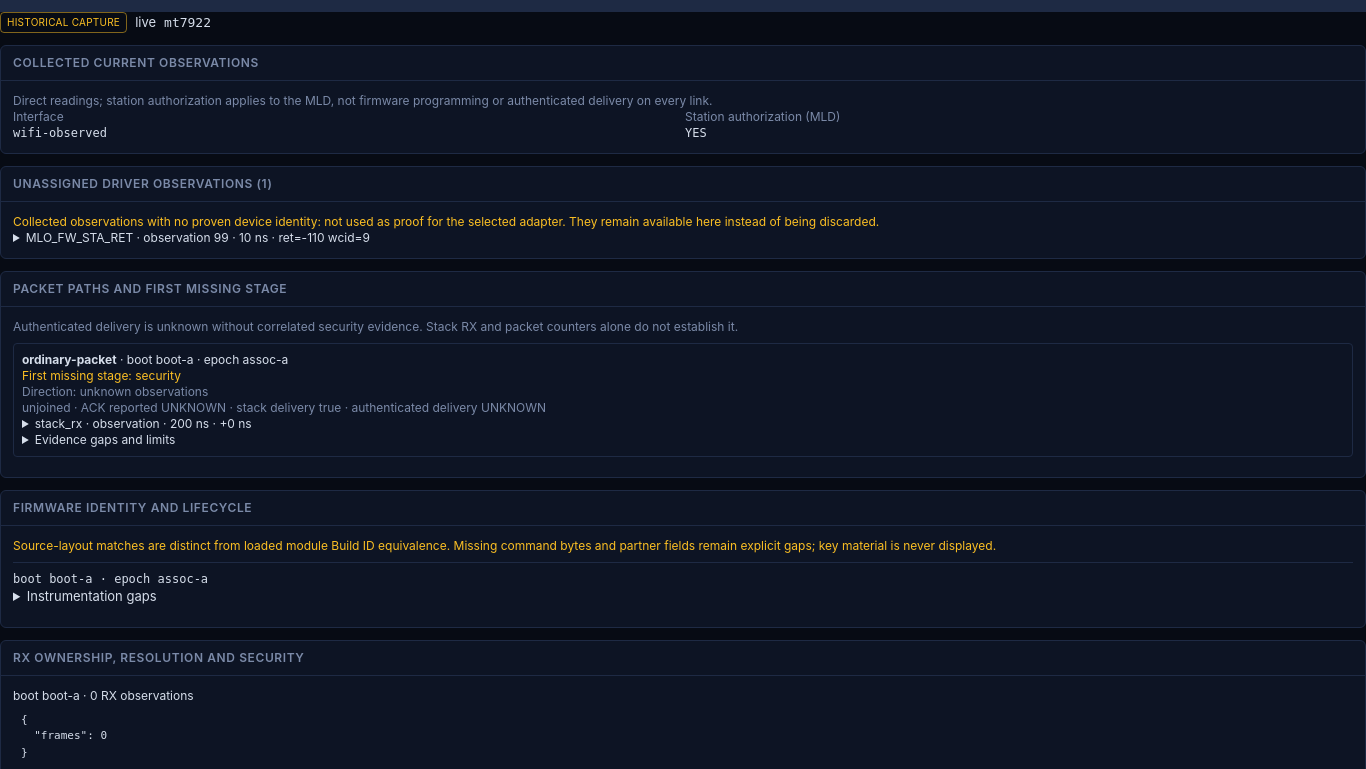
evidence exposes collected facts and unassigned driver returns without claiming ownership
The image size is (1366, 769).
Expected: the text "wifi-observed" is shown, [13,126,107,140]
Expected: the text "Station authorization (MLD)" is shown, [685,109,840,124]
Click the heading "MLO_FW_STA_RET · observation 99 · 10 ns · ret=-110 wcid=9". click: x=198, y=238
box: [26,230,370,245]
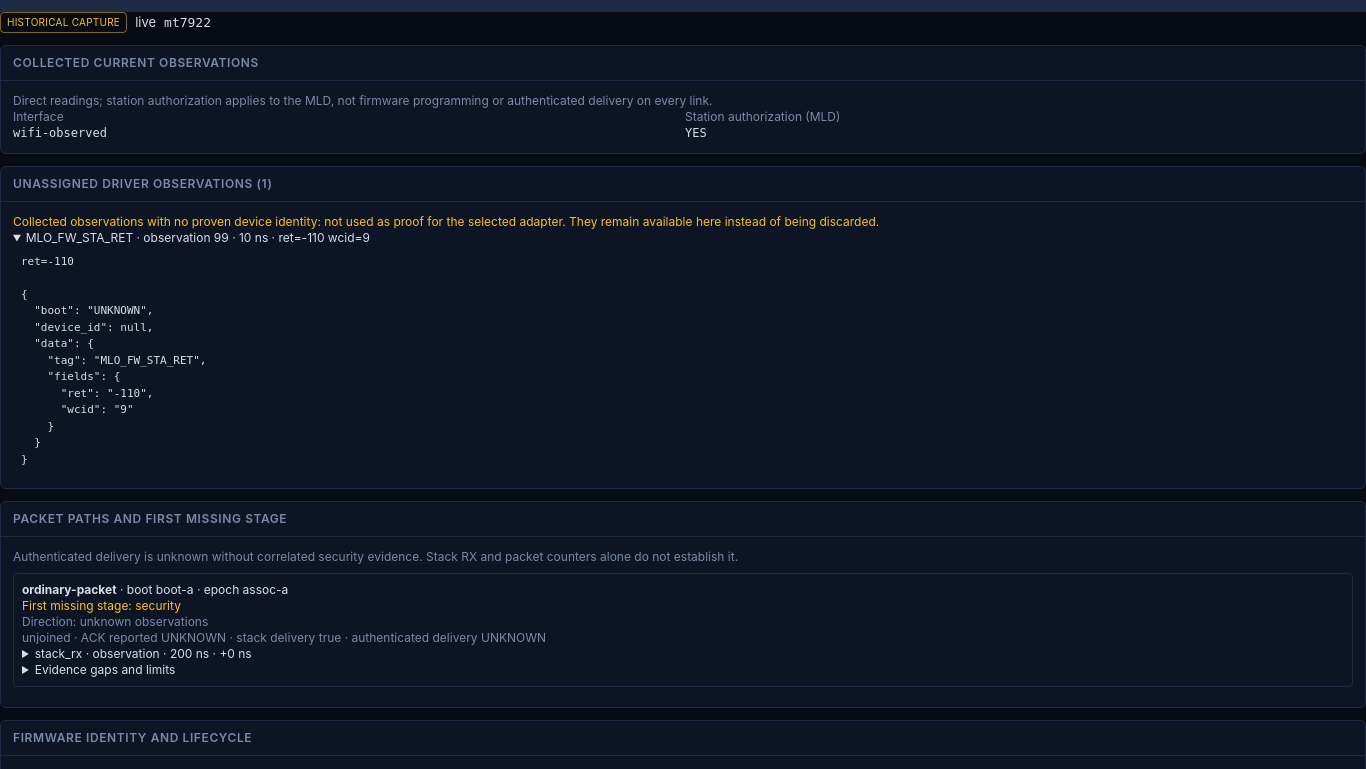
Expected: the text "not used as proof for the selected adapter" is shown, [13,214,879,229]
Result: the text "ret=-110" is shown at [21,255,74,268]
